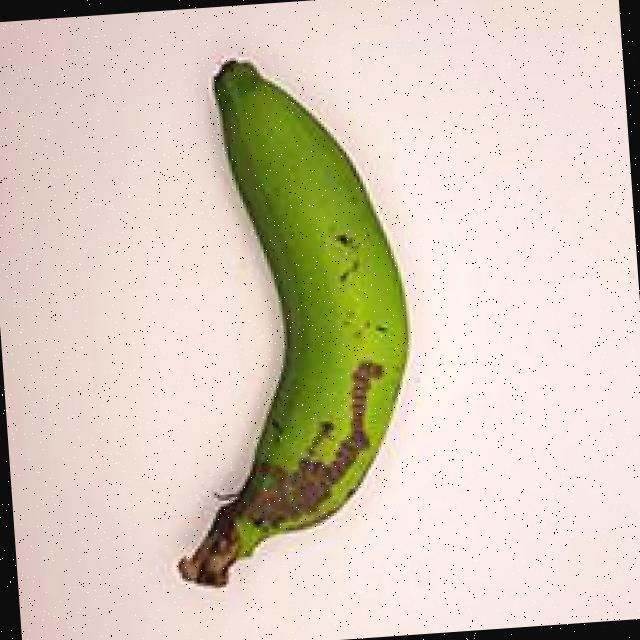Raw: (115, 36, 444, 596)
